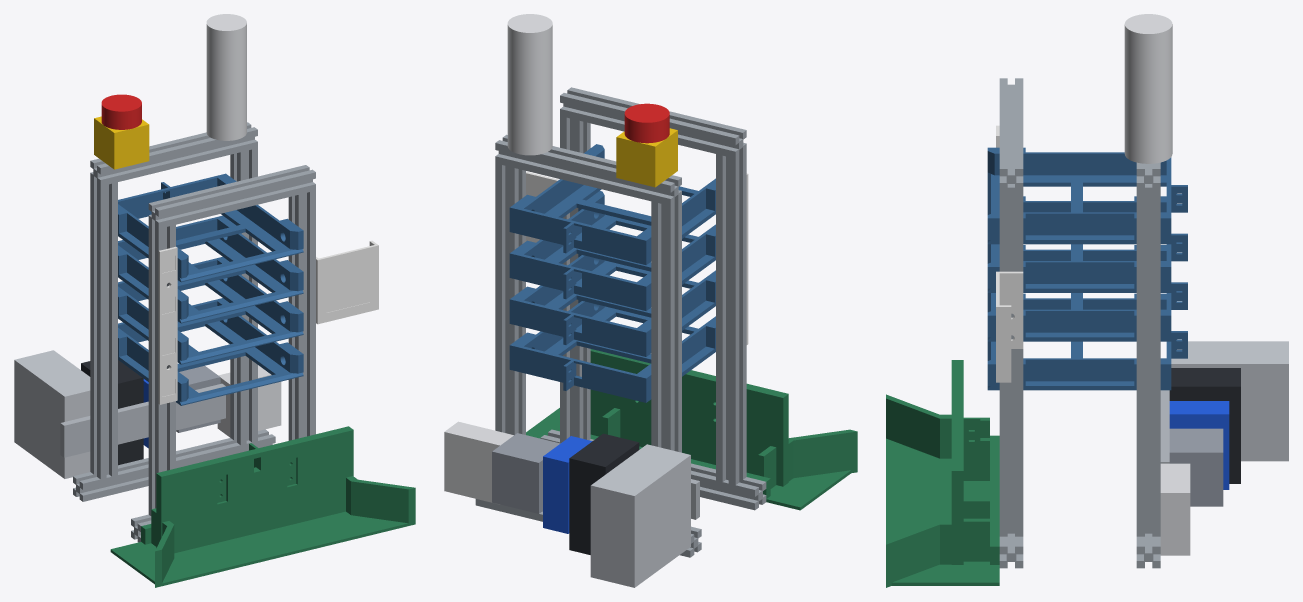
File: rack.glb
The picture shows the model from 3 angles, left to right: view 1: azimuth 30°, elevation 25°; view 2: azimuth 150°, elevation 25°; view 3: azimuth 270°, elevation 25°; orthographic projection. The views are drawn at different scales.
Visible parts, largest first — view 1: rack (×11); view 2: rack (×11); view 3: rack (×10).
Part boxes in pixels (bbox=[...]): rack (×11): bbox=[14, 14, 415, 587]; rack (×11): bbox=[444, 14, 857, 587]; rack (×10): bbox=[886, 14, 1288, 587].
Bounding box in the file's own units: 0.309 × 0.48 × 0.3375.
